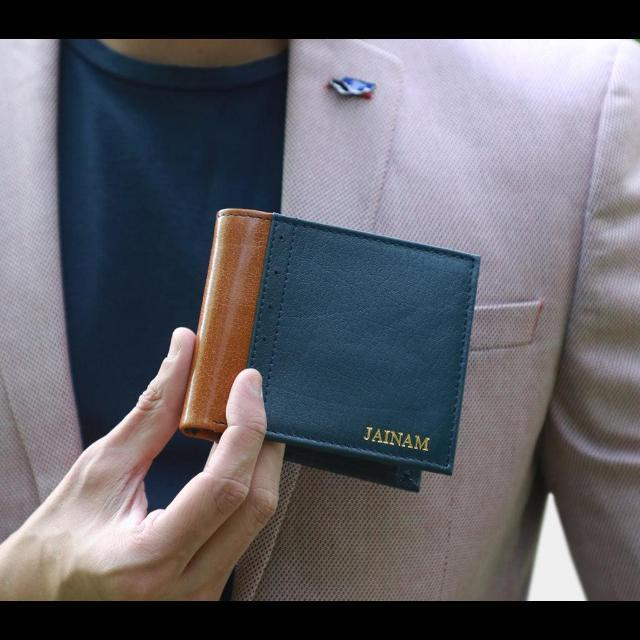wallet: (175, 206, 481, 494)
